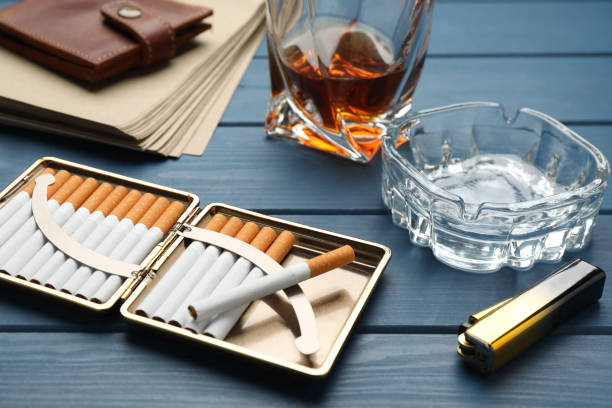alcohol: (263, 0, 436, 166)
cigarette: (186, 244, 356, 321), (203, 228, 296, 340), (150, 215, 244, 325), (28, 184, 129, 286), (42, 188, 142, 291), (184, 225, 277, 335), (59, 191, 157, 295), (74, 195, 171, 300), (133, 212, 228, 319), (167, 221, 261, 329), (15, 181, 115, 282), (0, 176, 99, 278), (89, 200, 186, 303), (0, 174, 83, 269), (0, 168, 72, 247), (0, 165, 56, 226)
